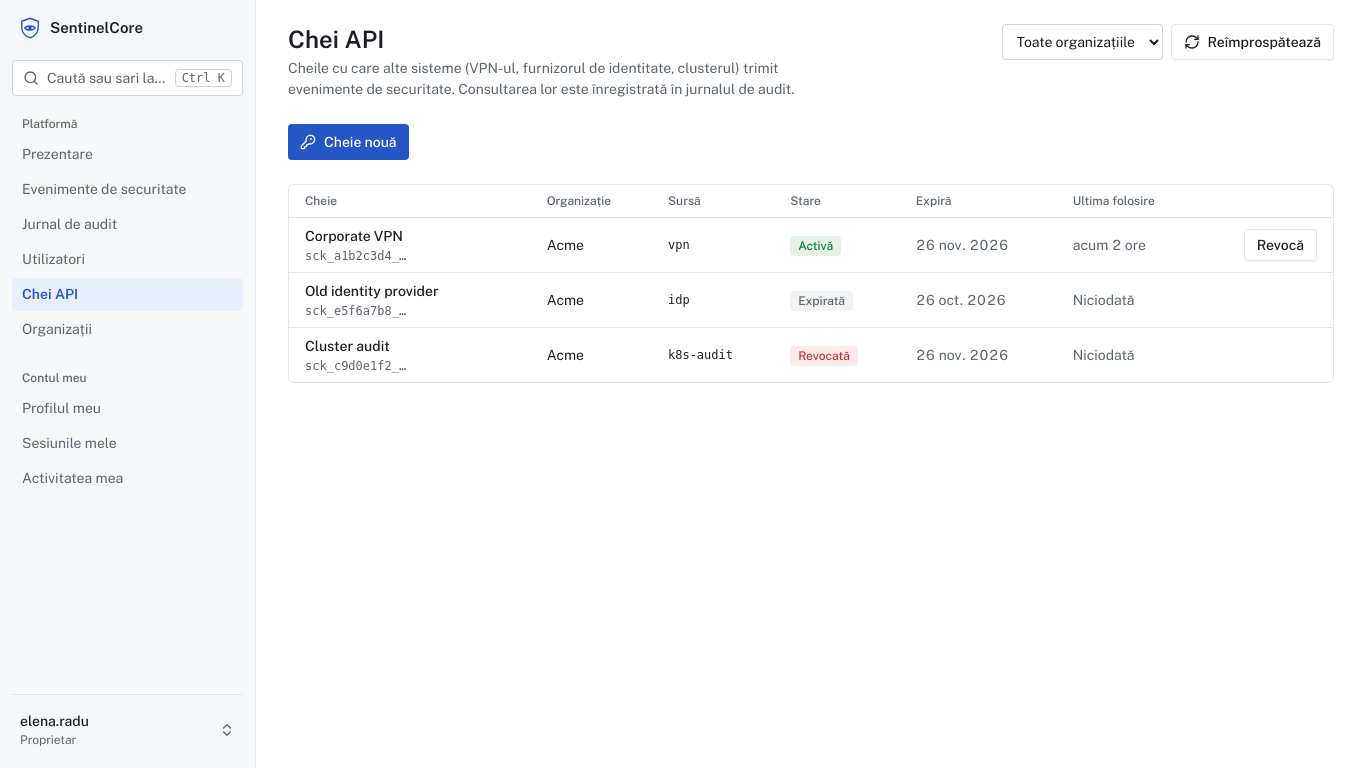
Scenario: organization API keys page › revokes only active keys, after confirmation
This screenshot has width=1366, height=768.
Click the button with aria-label "Revocă cheia Corporate VPN" at (1280, 245), box [1244, 229, 1317, 261]
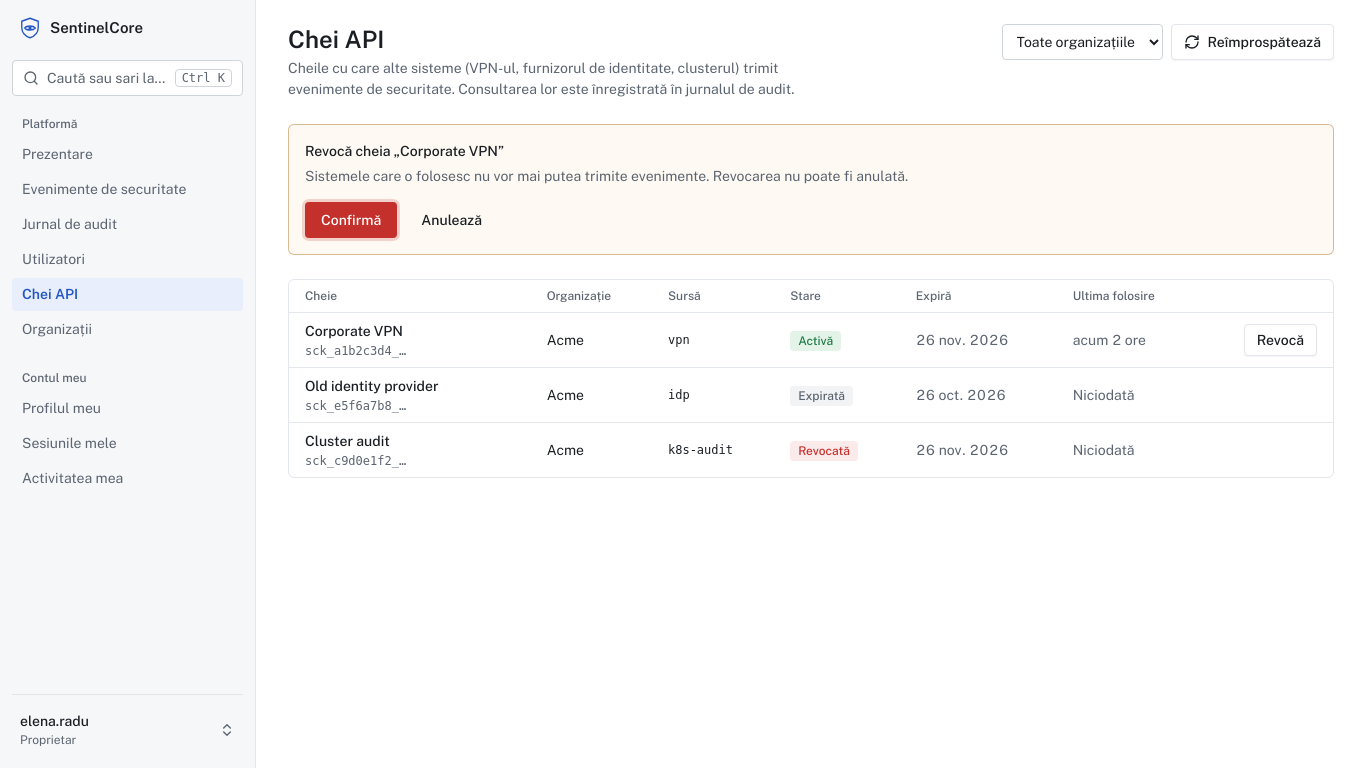
Result: the form "Revocă cheia „Corporate VPN”" shows "nu poate fi anulată" at [305, 168, 908, 184]
Click the button "Anulează" at (452, 220), box [405, 202, 498, 238]
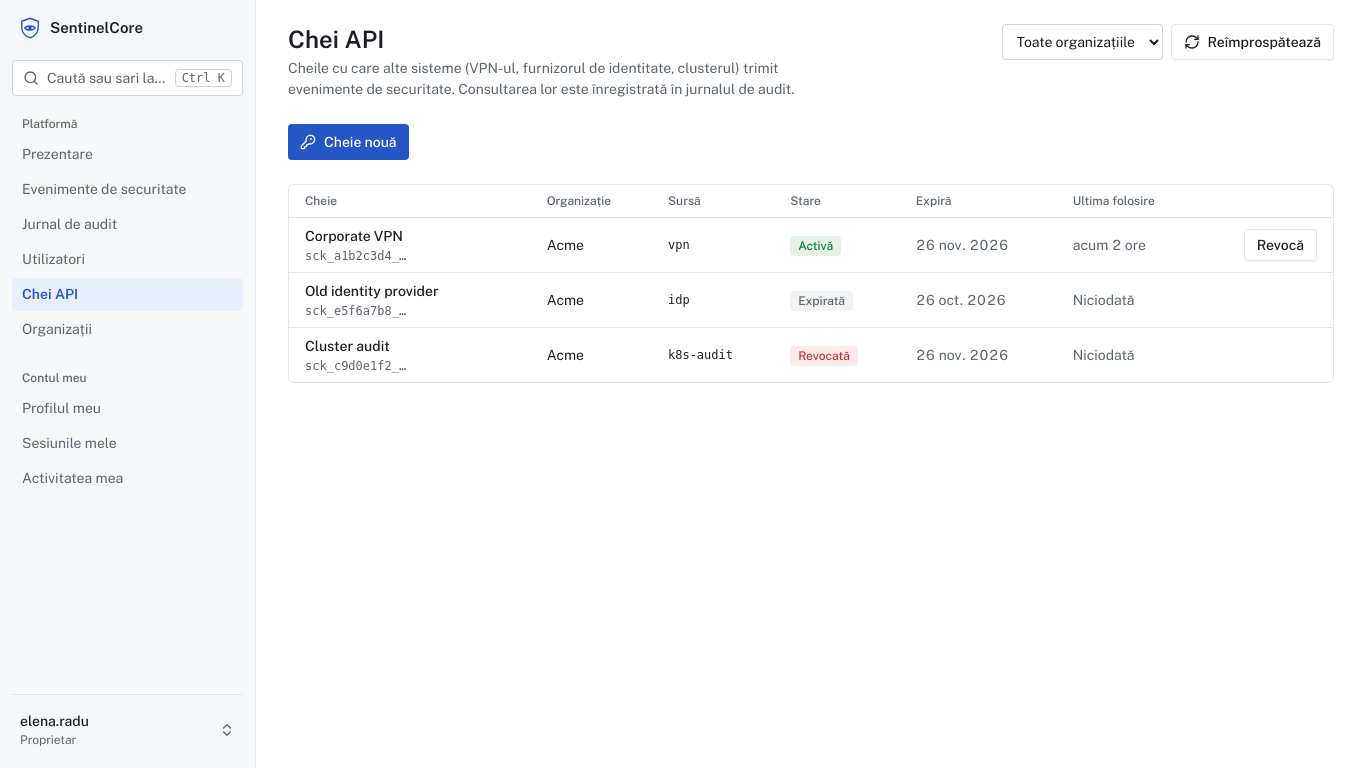
Result: the form is gone
Click the button with aria-label "Revocă cheia Corporate VPN" at (1280, 245), box [1244, 229, 1317, 261]
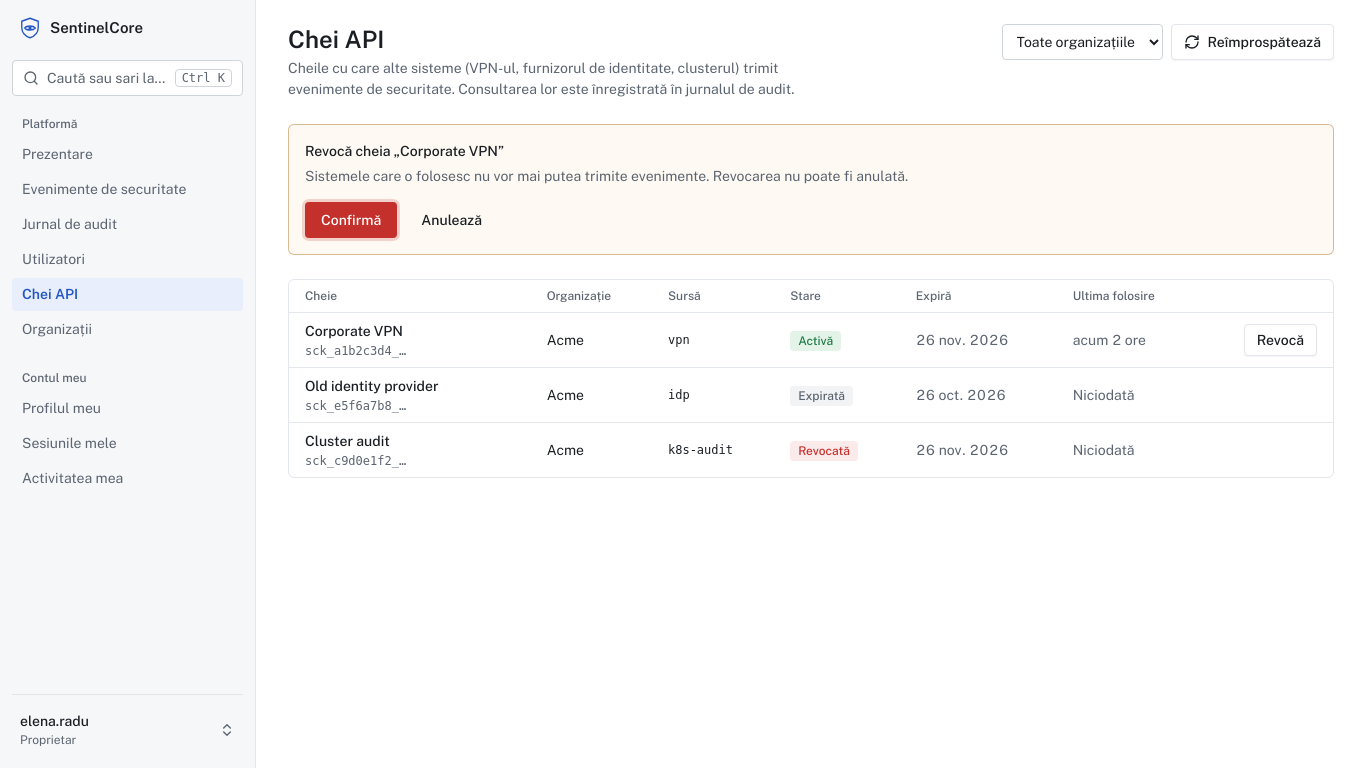
Click the button "Confirmă" at (351, 220), box [305, 202, 397, 238]
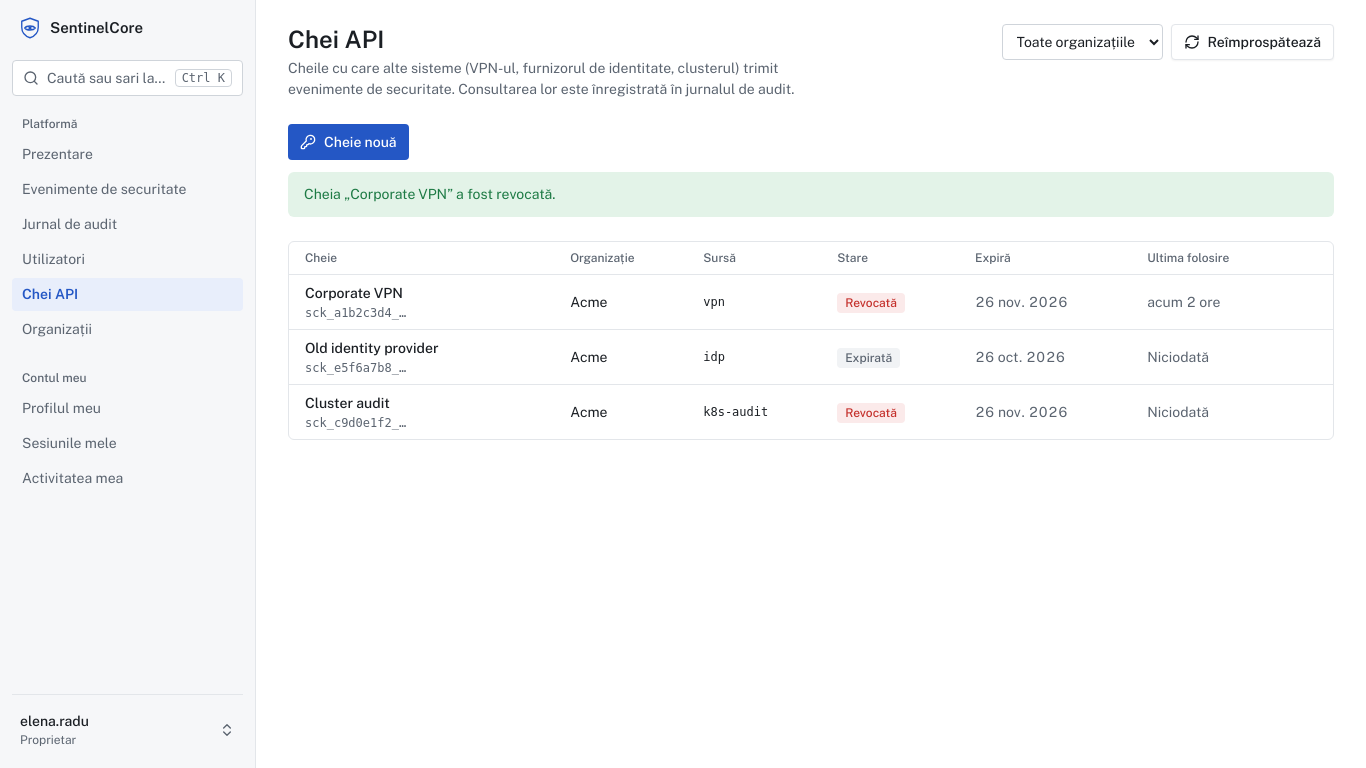
Result: the message reads "Cheia „Corporate VPN” a fost revocată." at [304, 186, 556, 202]
Result: the button "Confirmă" is gone
